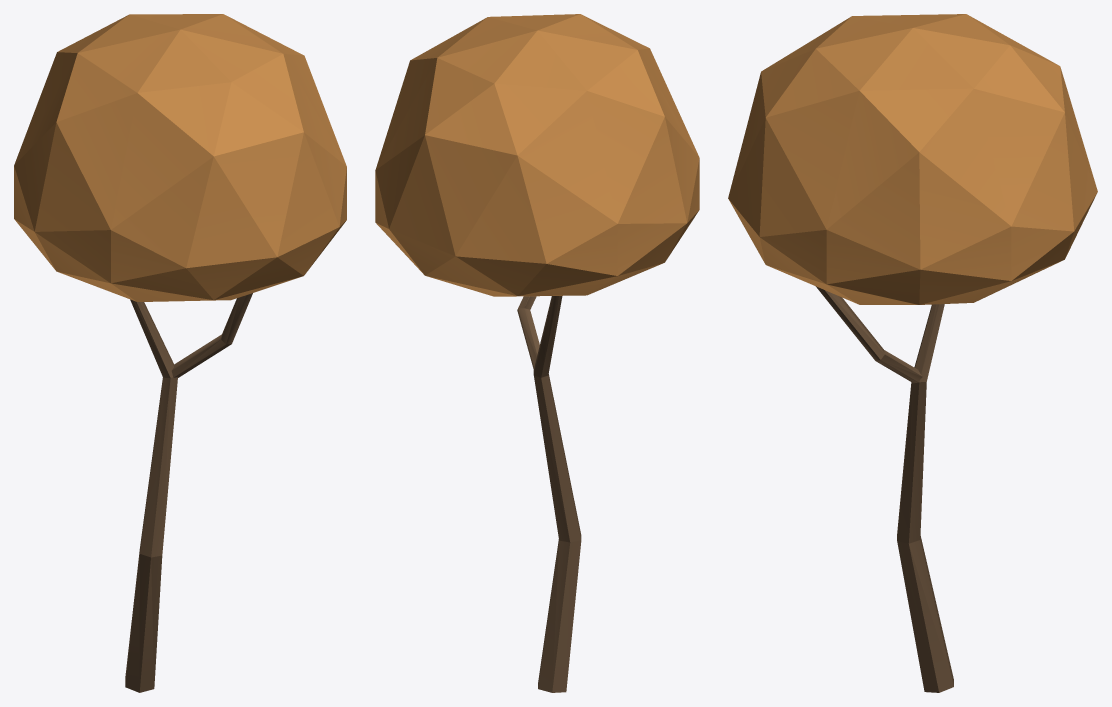
File: tree_orange_3.glb
3 renders of one model, left to right at view 1: azimuth 30°, elevation 25°; view 2: azimuth 150°, elevation 25°; view 3: azimuth 270°, elevation 25°, orthographic. The views are drawn at different scales.
Visible parts, largest first — view 1: Tree Orange 3; view 2: Tree Orange 3; view 3: Tree Orange 3.
Part boxes in pixels (left/top/right/bottom): Tree Orange 3: left=14, top=14, right=346, bottom=692; Tree Orange 3: left=375, top=14, right=699, bottom=692; Tree Orange 3: left=728, top=14, right=1097, bottom=692.
Bounding box in the file's own units: 0.1745 × 0.3676 × 0.1826.
